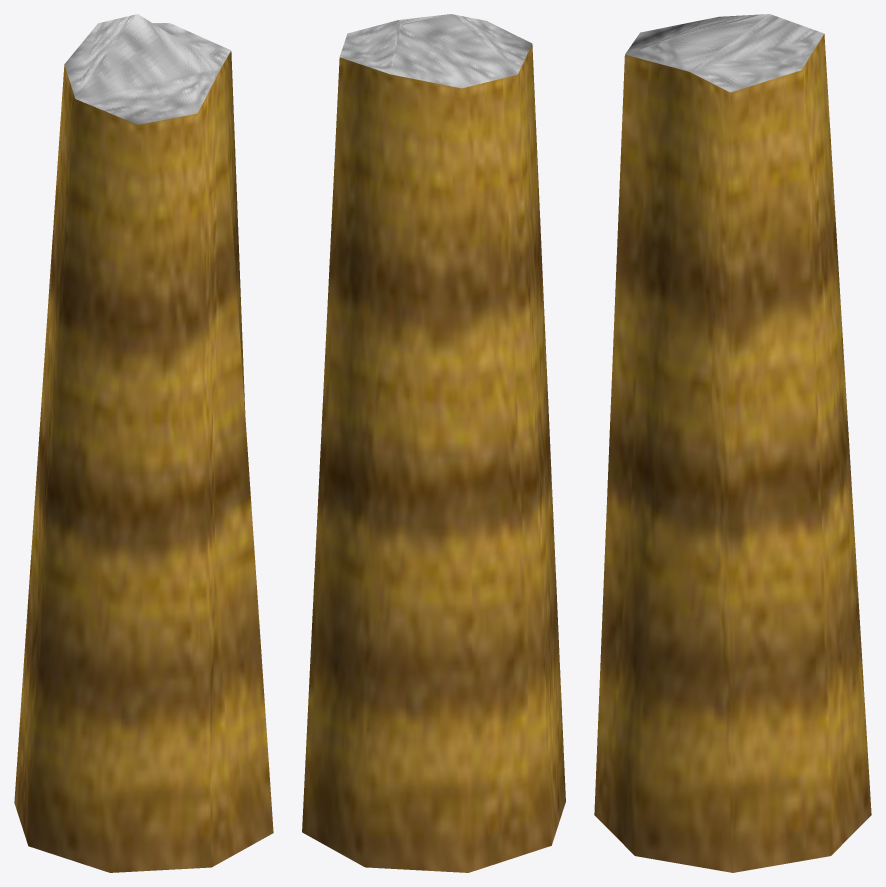
Rendered from stump02.obj.
3 views of the same model, side by side, from view 1: azimuth 30°, elevation 25°; view 2: azimuth 150°, elevation 25°; view 3: azimuth 270°, elevation 25° (orthographic). The views are drawn at different scales.
Visible parts, largest first — view 1: Cylinder01, Box01; view 2: Cylinder01, Box01; view 3: Cylinder01, Box01.
Boxes of the visible parts, <box> form: Cylinder01: <box>14,51,273,872</box>; Box01: <box>64,14,231,124</box>; Cylinder01: <box>302,44,565,872</box>; Box01: <box>339,14,532,88</box>; Cylinder01: <box>594,34,871,872</box>; Box01: <box>625,14,824,92</box>.
Bounding box in the file's own units: 8.99 × 29.27 × 9.11.
